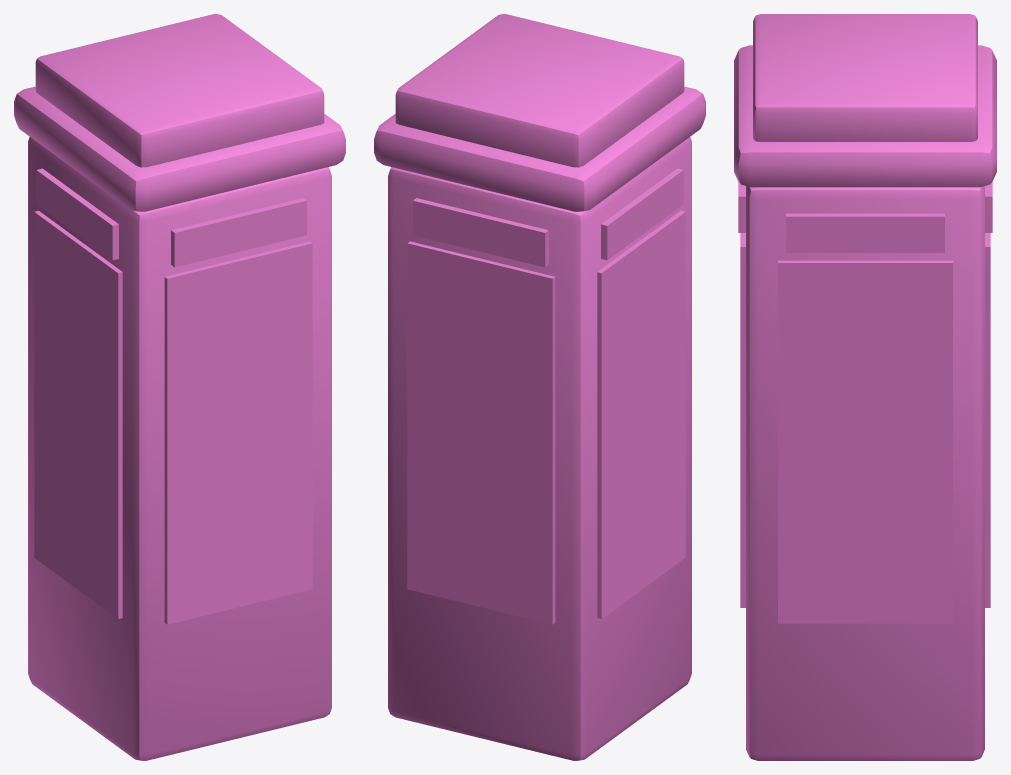
Rendered from Street_PhoneBox.fbx.
3 views of the same model, side by side, from view 1: azimuth 30°, elevation 25°; view 2: azimuth 150°, elevation 25°; view 3: azimuth 270°, elevation 25° (orthographic). The views are drawn at different scales.
Visible parts, largest first — view 1: PhoneBox; view 2: PhoneBox; view 3: PhoneBox.
Boxes of the visible parts, <box> form: PhoneBox: <box>14,14,345,760</box>; PhoneBox: <box>374,14,705,760</box>; PhoneBox: <box>734,14,996,760</box>.
Size of the model in its own units: 3.3 by 9.1 by 3.3.
Materials: 1 (1 with a texture image).
